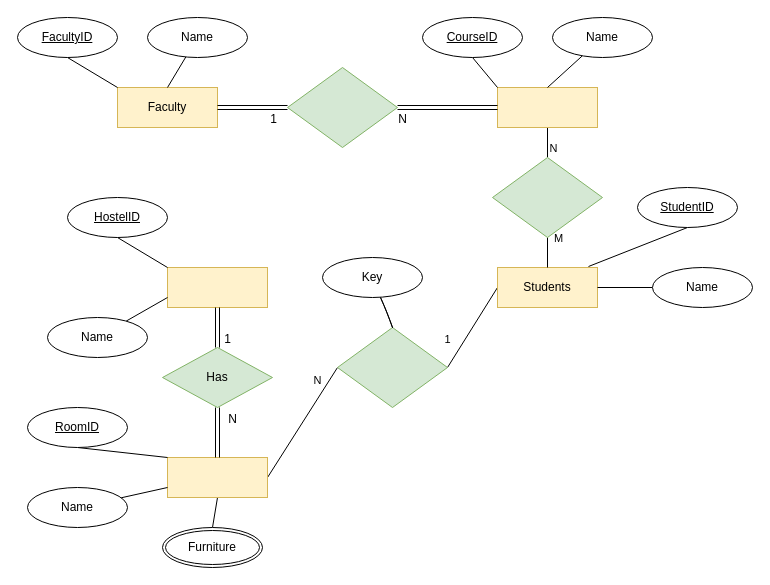
This 770x585 diagram has some shape labels left out. Each missing label, with the box of its shape:
Courses: (496, 86, 598, 128)
Enrolled_by: (492, 156, 602, 238)
Hostels: (166, 266, 268, 308)
Offers: (286, 66, 398, 148)
Rented_by: (336, 326, 448, 408)
Room: (166, 456, 268, 498)
